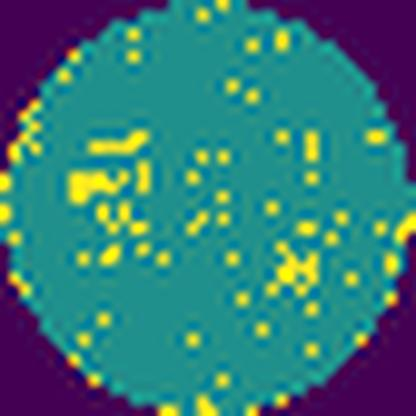Loc: (267, 243, 317, 294), (61, 168, 127, 205), (84, 129, 148, 157)
